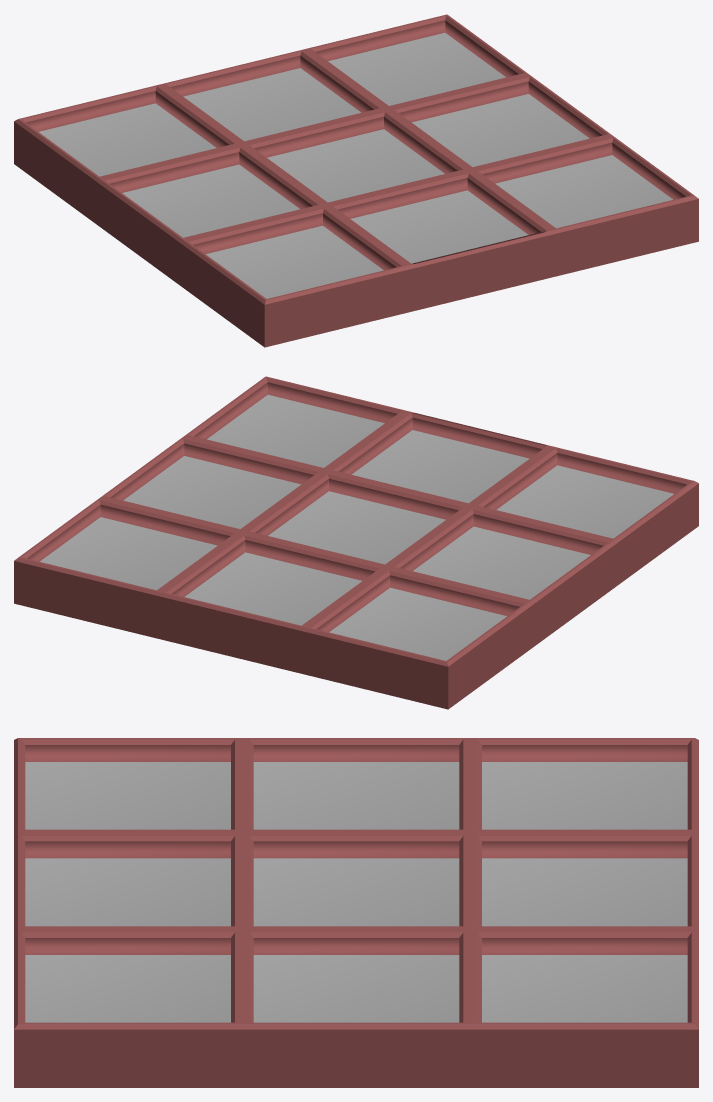
Rendered from window.fbx.
3 renders of one model, top to bottom at view 1: azimuth 30°, elevation 25°; view 2: azimuth 150°, elevation 25°; view 3: azimuth 270°, elevation 25°, orthographic. The views are drawn at different scales.
Visible parts, largest first — view 1: pCube10; view 2: pCube10; view 3: pCube10.
Boxes of the visible parts, x1=… form: pCube10: x1=14, y1=14, x2=698, y2=347; pCube10: x1=14, y1=376, x2=698, y2=709; pCube10: x1=14, y1=738, x2=698, y2=1087.
Bounding box in the file's own units: 15 × 1.5 × 15.
